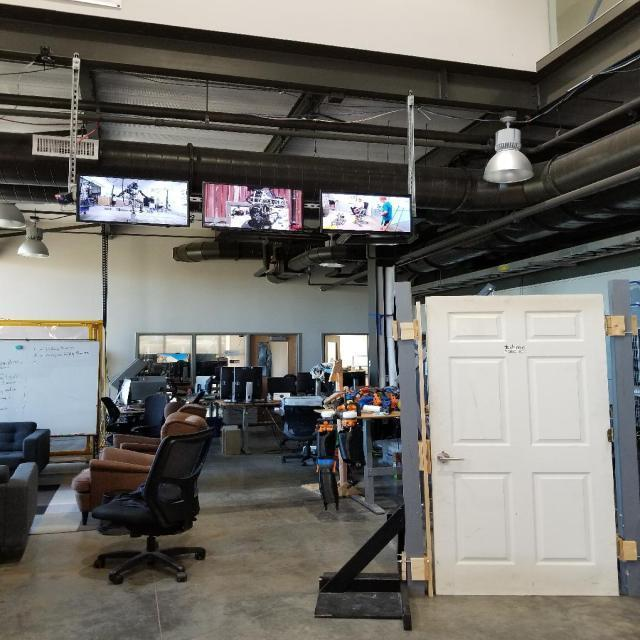door: (421, 293, 620, 599), (434, 451, 462, 464)
